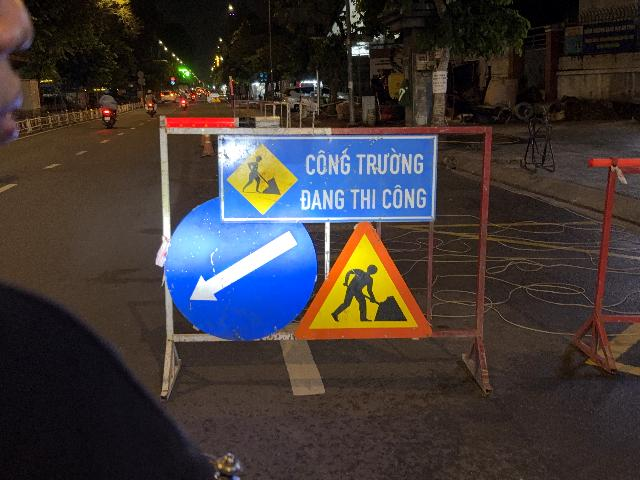cong-truong-dang-thi-cong: (294, 219, 433, 341)
huong-phai-di-vong-chuong-ngai-vat: (165, 197, 317, 341)
